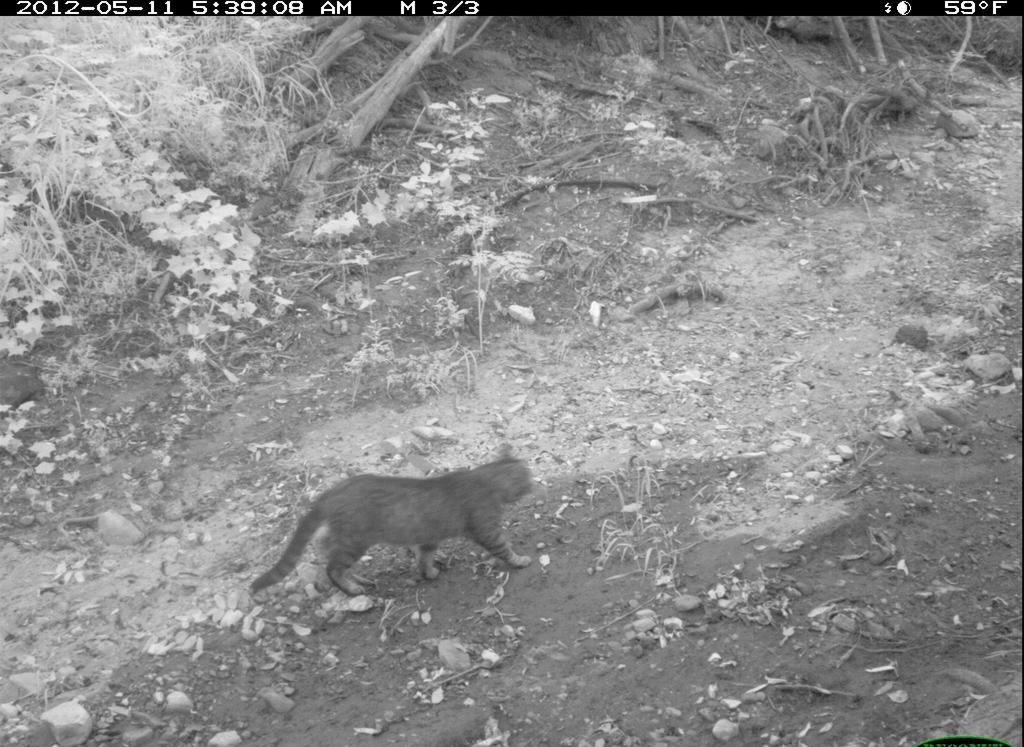cat: (248, 437, 541, 607)
